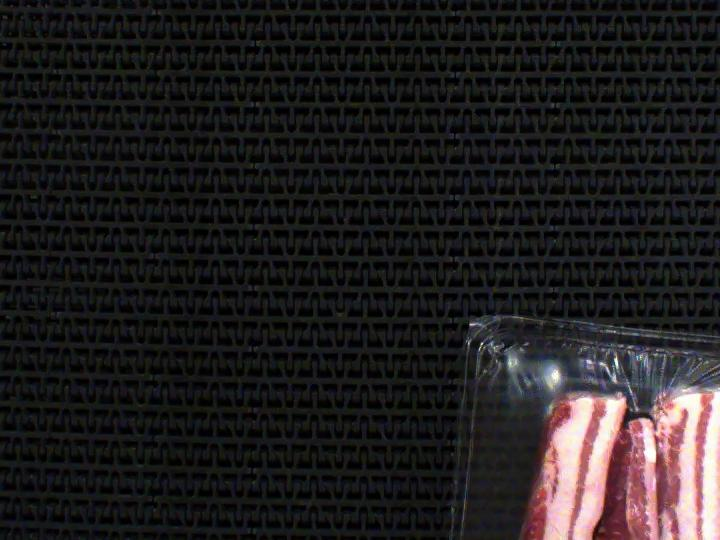unsealed: (483, 325, 720, 540)
